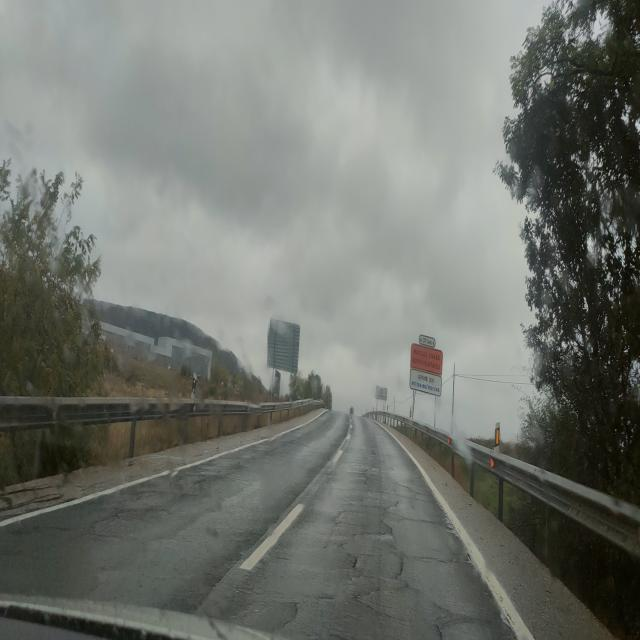Poth-hole: (432, 592, 481, 640), (349, 512, 398, 544), (348, 583, 384, 625), (336, 542, 374, 581), (409, 551, 453, 574), (389, 552, 410, 597), (398, 485, 438, 508), (279, 596, 302, 633), (358, 498, 403, 515), (330, 499, 351, 532), (397, 514, 447, 526), (312, 590, 337, 605), (359, 463, 374, 488)
